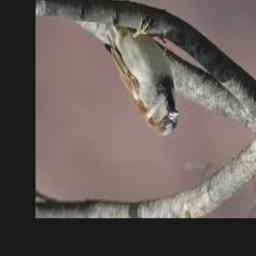Sparrow: (92, 0, 179, 136)
